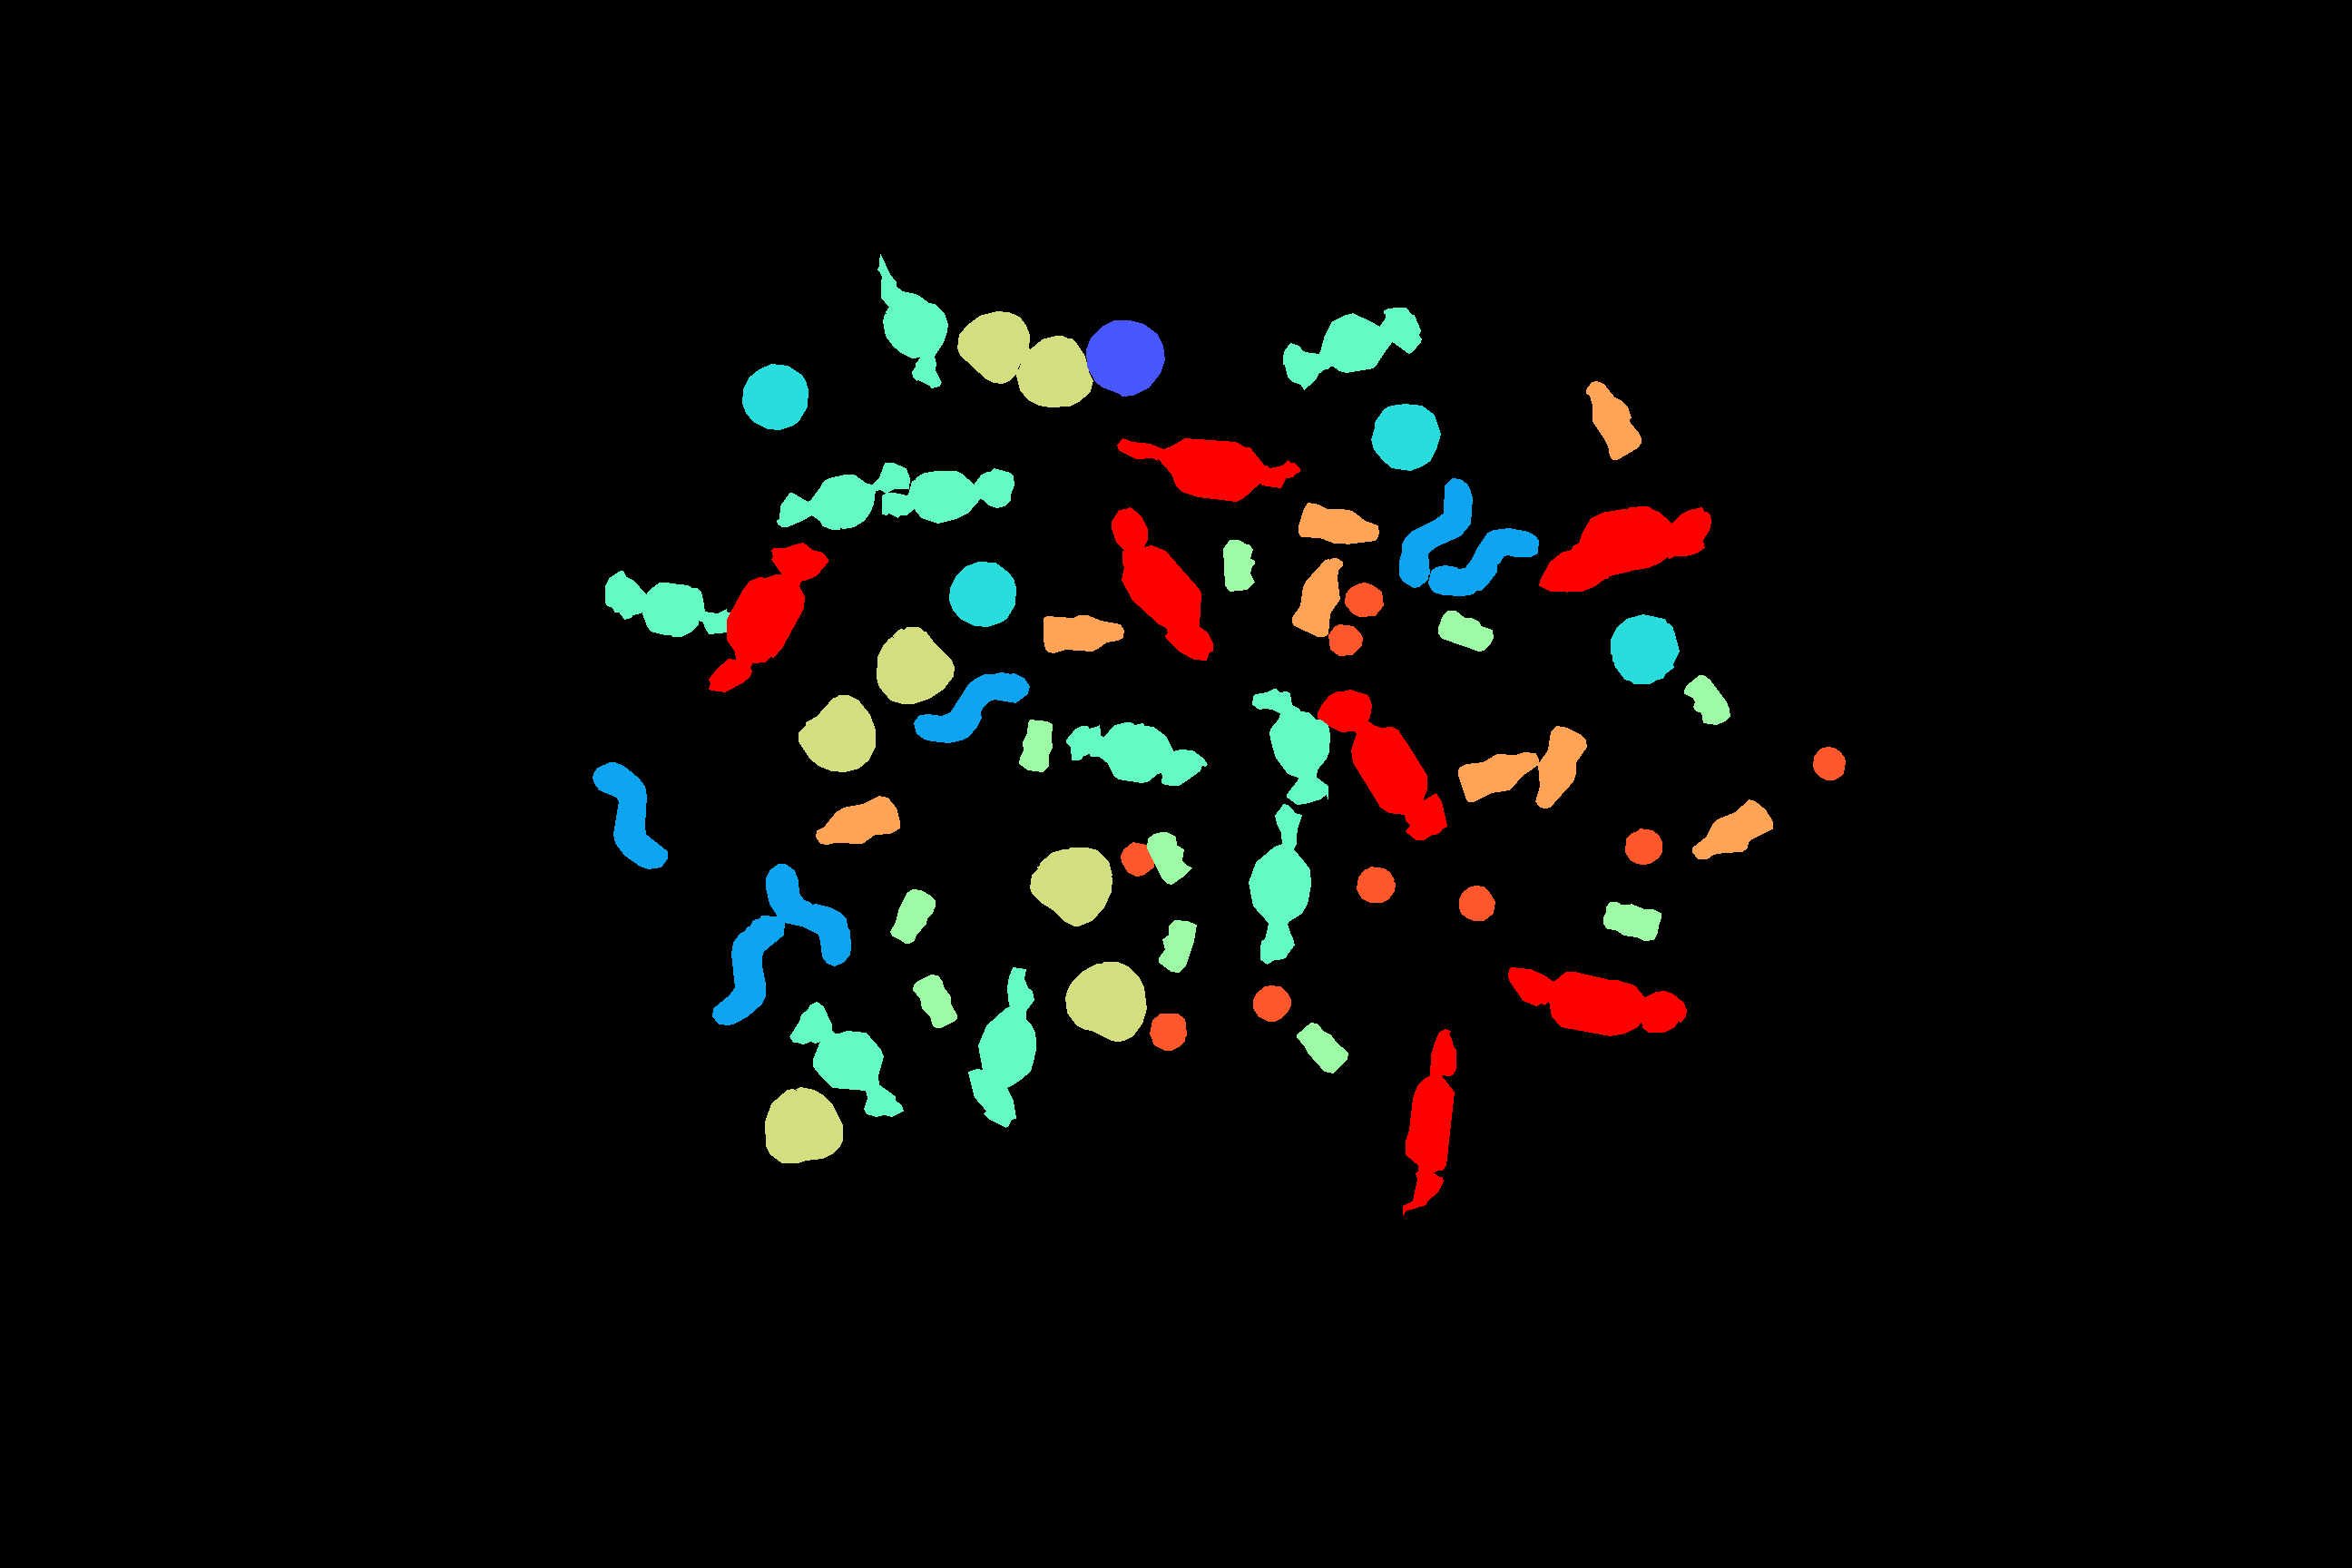apricot_jellies: (1031, 847, 1111, 926), (1066, 963, 1146, 1041), (798, 695, 875, 772), (877, 626, 954, 704), (765, 1087, 842, 1162), (1017, 336, 1092, 406), (957, 311, 1029, 383)
bear: (1297, 1022, 1347, 1073), (1146, 831, 1192, 884), (891, 889, 935, 943), (914, 975, 957, 1027), (1683, 675, 1729, 724), (1603, 901, 1661, 940), (1438, 611, 1493, 651), (1158, 920, 1195, 971), (1019, 719, 1052, 772), (1223, 541, 1255, 591)
coin_candy: (1087, 320, 1164, 396)
cola bottle candies: (1692, 800, 1773, 859), (1585, 382, 1640, 458), (1535, 726, 1585, 807), (816, 796, 900, 843), (1458, 753, 1538, 802), (1291, 558, 1342, 635), (1298, 502, 1379, 544), (1043, 616, 1123, 653)
riesen: (1318, 689, 1447, 840), (709, 542, 828, 691), (1111, 508, 1213, 660), (1538, 506, 1710, 591), (1509, 968, 1685, 1036), (1117, 438, 1300, 500), (1403, 1029, 1456, 1215)
skittles: (1150, 1013, 1187, 1050), (1356, 866, 1395, 901), (1253, 985, 1290, 1020), (1626, 828, 1661, 865), (1344, 583, 1383, 616), (1460, 886, 1494, 920), (1120, 842, 1153, 875), (1813, 747, 1845, 779), (1328, 625, 1362, 655)
sourworms: (767, 865, 851, 966), (914, 672, 1029, 742), (1400, 478, 1472, 586), (712, 915, 784, 1024), (593, 763, 667, 868), (1428, 528, 1538, 595)
tofifee: (1610, 614, 1678, 682), (1370, 404, 1440, 471), (948, 562, 1015, 626), (742, 364, 807, 429)
vollmilch_brocken: (789, 1001, 903, 1117), (1283, 308, 1421, 389), (968, 968, 1036, 1127), (1248, 803, 1311, 964), (877, 254, 947, 387), (1066, 723, 1207, 786), (777, 462, 910, 528), (1253, 689, 1330, 803), (606, 571, 731, 635), (882, 469, 1013, 523)
